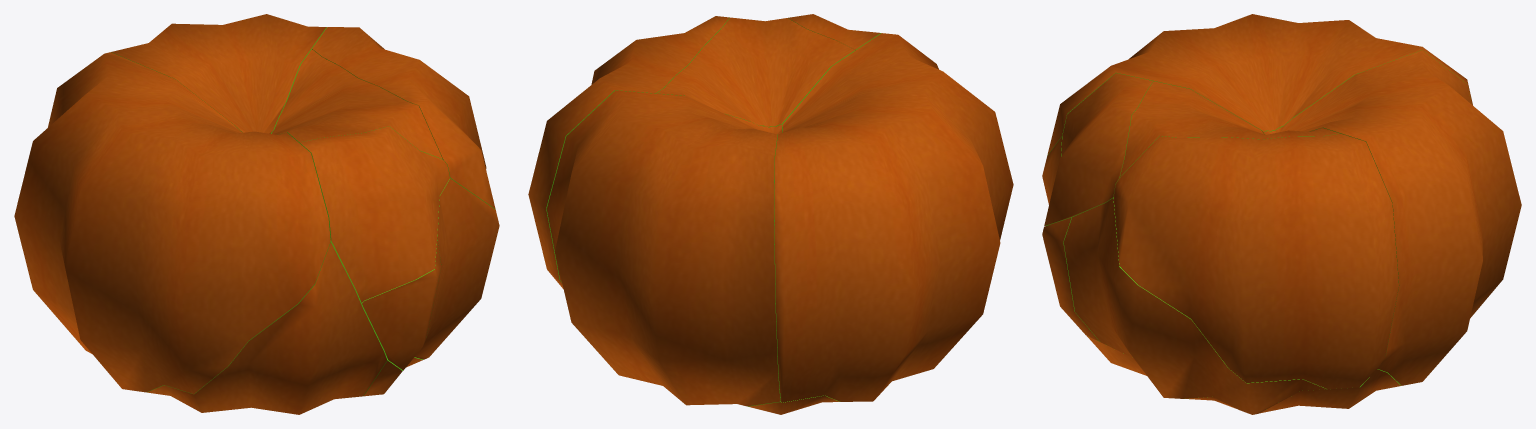
Rendered from smashed-pumpkin.fbx.
3 views of the same model, side by side, from view 1: azimuth 30°, elevation 25°; view 2: azimuth 150°, elevation 25°; view 3: azimuth 270°, elevation 25° (orthographic).
Parts seen in each view (by area): view 1: Sphere.003_cell.013, Sphere.003_cell.010_cell.002, Sphere.003_cell.015, Sphere.003_cell.012, Sphere.003_cell.010_cell.004, Sphere.003_cell.010_cell, Sphere.003_cell.010_cell.003, Sphere.003_cell.010_cell.001, Sphere.003_cell.011; view 2: Sphere.003_cell.013, Sphere.003_cell.012, Sphere.003_cell.010_cell, Sphere.003_cell.010_cell.004, Sphere.003_cell.010_cell.002, Sphere.003_cell.015; view 3: Sphere.003_cell.010_cell.004, Sphere.003_cell.012, Sphere.003_cell.013, Sphere.003_cell.010_cell.003, Sphere.003_cell.010_cell.002, Sphere.003_cell.010_cell, Sphere.003_cell.011, Sphere.003_cell.010_cell.001, Sphere.003_cell.015.
Part boxes in pixels (left/top/right/bottom): Sphere.003_cell.013: left=14, top=52, right=330, bottom=394; Sphere.003_cell.010_cell.002: left=299, top=126, right=449, bottom=302; Sphere.003_cell.015: left=147, top=242, right=387, bottom=414; Sphere.003_cell.012: left=111, top=14, right=326, bottom=133; Sphere.003_cell.010_cell.004: left=312, top=27, right=495, bottom=209; Sphere.003_cell.010_cell: left=271, top=49, right=442, bottom=159; Sphere.003_cell.010_cell.003: left=415, top=178, right=499, bottom=359; Sphere.003_cell.010_cell.001: left=359, top=239, right=441, bottom=370; Sphere.003_cell.011: left=363, top=357, right=422, bottom=396; Sphere.003_cell.013: left=774, top=33, right=1013, bottom=402; Sphere.003_cell.012: left=546, top=90, right=782, bottom=406; Sphere.003_cell.010_cell: left=656, top=17, right=855, bottom=130; Sphere.003_cell.010_cell.004: left=528, top=16, right=729, bottom=288; Sphere.003_cell.010_cell.002: left=788, top=14, right=880, bottom=50; Sphere.003_cell.015: left=747, top=395, right=839, bottom=414; Sphere.003_cell.010_cell.004: left=1113, top=133, right=1398, bottom=389; Sphere.003_cell.012: left=1261, top=50, right=1521, bottom=385; Sphere.003_cell.013: left=1047, top=14, right=1472, bottom=155; Sphere.003_cell.010_cell.003: left=1063, top=198, right=1326, bottom=414; Sphere.003_cell.010_cell.002: left=1044, top=73, right=1153, bottom=225; Sphere.003_cell.010_cell: left=1119, top=81, right=1339, bottom=177; Sphere.003_cell.011: left=1087, top=336, right=1401, bottom=413; Sphere.003_cell.010_cell.001: left=1042, top=217, right=1099, bottom=341; Sphere.003_cell.015: left=1042, top=136, right=1062, bottom=204.
Size of the model in its own units: 227 by 137 by 224.
